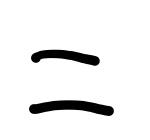eqv: (29, 50, 114, 116)
